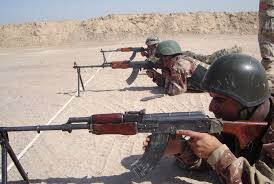gun: (0, 105, 269, 180), (69, 58, 163, 84), (98, 46, 152, 61)
